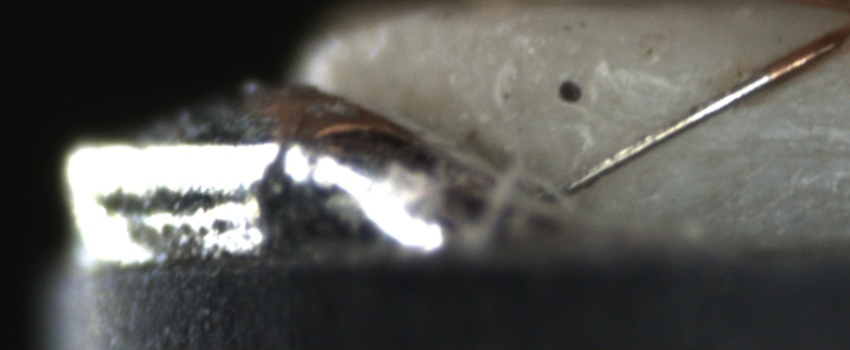DL: (727, 111, 849, 171)
TS: (554, 72, 772, 196)
